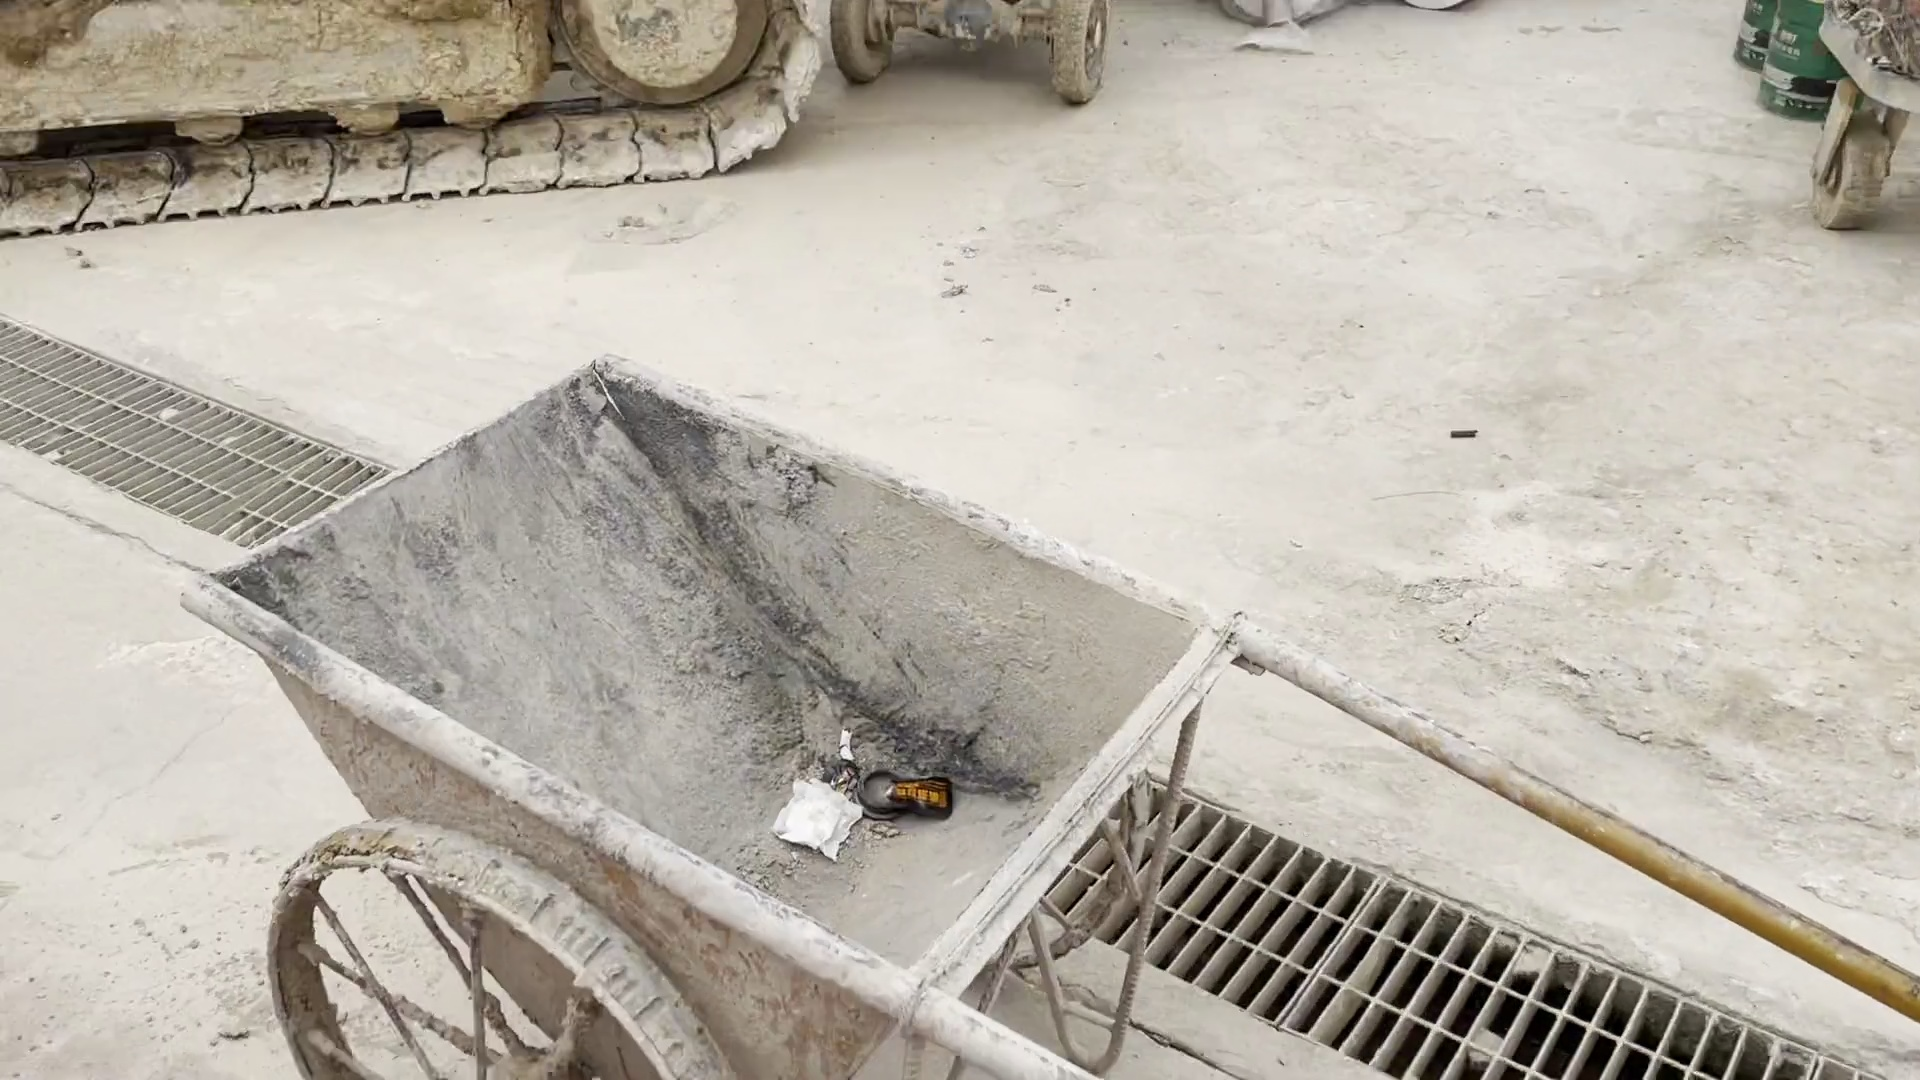handcart: (138, 340, 1917, 1080)
